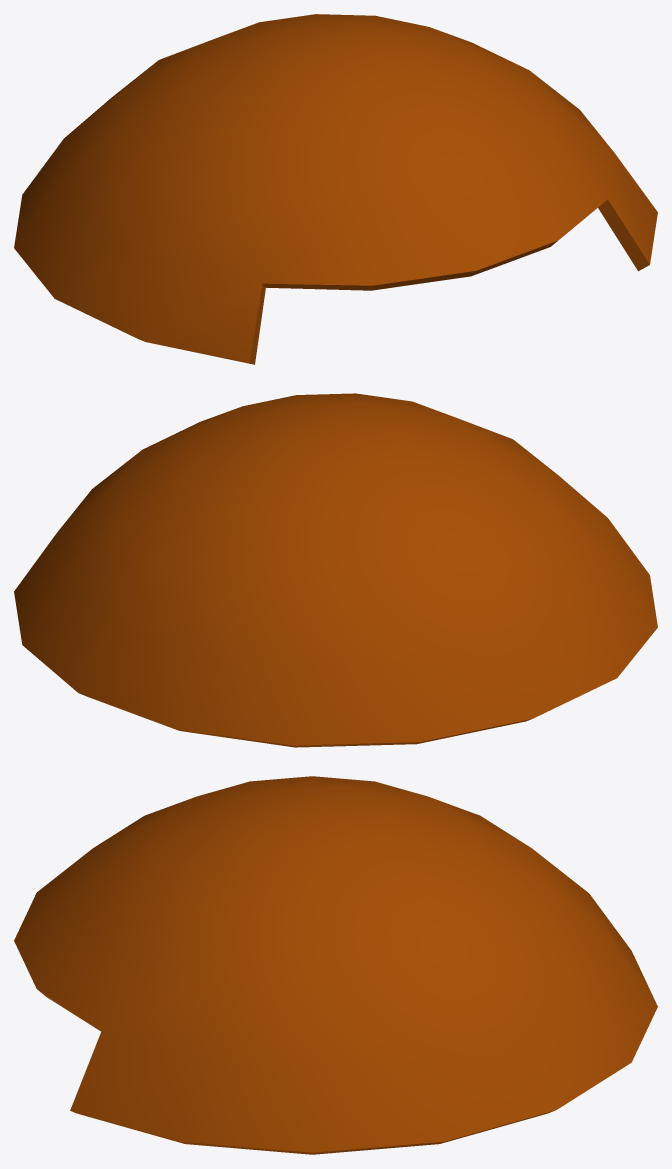
Rendered from Hair_City_Buzz_01.fbx.
The picture shows the model from 3 angles, top to bottom: view 1: azimuth 30°, elevation 25°; view 2: azimuth 150°, elevation 25°; view 3: azimuth 270°, elevation 25°; orthographic projection. The views are drawn at different scales.
Parts seen in each view (by area): view 1: Hair_City_Buzz_01; view 2: Hair_City_Buzz_01; view 3: Hair_City_Buzz_01.
Part boxes in pixels (x1,y1,x2,y2): Hair_City_Buzz_01: (14,14,657,364); Hair_City_Buzz_01: (14,393,657,747); Hair_City_Buzz_01: (14,776,657,1154).
Size of the model in its own units: 93.32 by 30.32 by 86.95.
